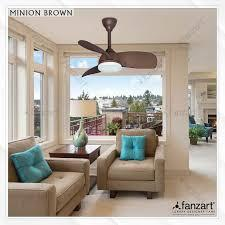chair: (9, 135, 89, 215), (96, 126, 165, 203), (189, 114, 213, 142)
fan: (77, 16, 158, 81)
light: (68, 100, 98, 148), (187, 80, 194, 93), (186, 93, 193, 99)
table: (50, 145, 100, 190)
